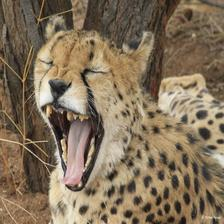Cheetah: (32, 15, 224, 224)
